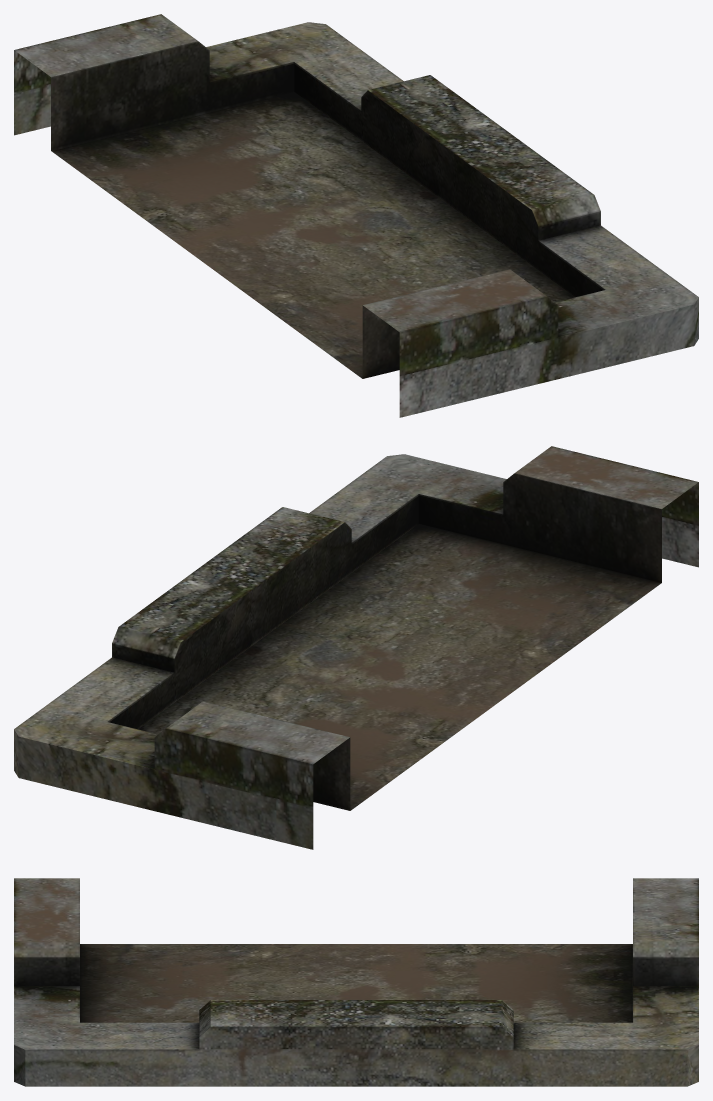
File: ConcreteBase.FBX
3 renders of one model, top to bottom at view 1: azimuth 30°, elevation 25°; view 2: azimuth 150°, elevation 25°; view 3: azimuth 270°, elevation 25°, orthographic. The views are drawn at different scales.
Parts seen in each view (by area): view 1: ConcreteBase; view 2: ConcreteBase; view 3: ConcreteBase.
Boxes of the visible parts, x1=… form: ConcreteBase: x1=14, y1=14, x2=698, y2=417; ConcreteBase: x1=14, y1=446, x2=698, y2=849; ConcreteBase: x1=14, y1=878, x2=698, y2=1086.
Bounding box in the file's own units: 124 × 33.22 × 272.
